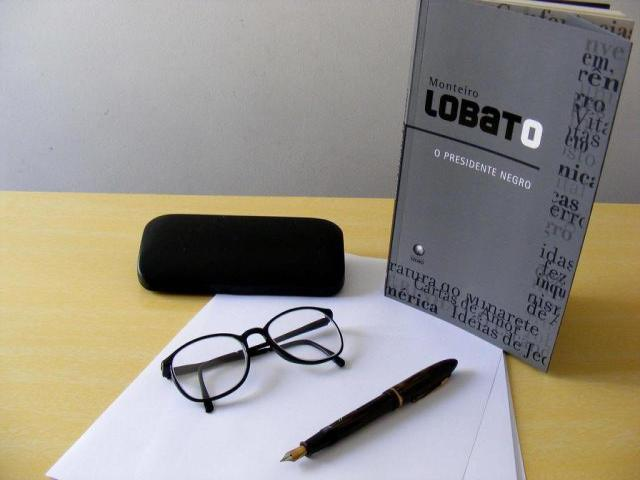PEN: (267, 341, 469, 475)
